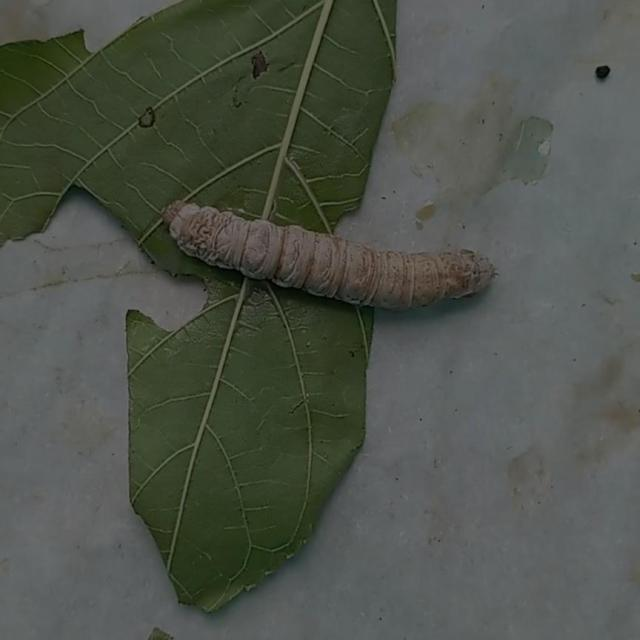Grasserie: (113, 157, 524, 353)
